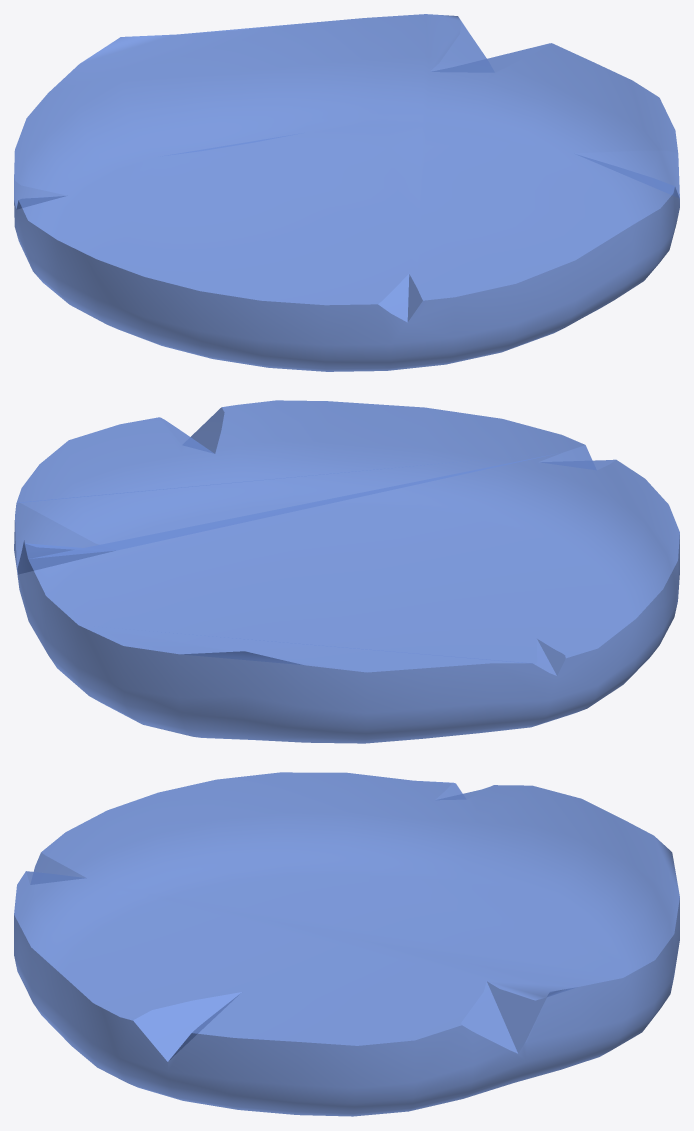
The model's file is Burger_skin_ICE DOWN.fbx.
The picture shows the model from 3 angles, top to bottom: view 1: azimuth 30°, elevation 25°; view 2: azimuth 150°, elevation 25°; view 3: azimuth 270°, elevation 25°; orthographic projection.
Parts seen in each view (by area): view 1: Burger Bread Down A; view 2: Burger Bread Down A; view 3: Burger Bread Down A.
Boxes of the visible parts, bbox=[...] form: Burger Bread Down A: bbox=[14, 14, 679, 371]; Burger Bread Down A: bbox=[14, 400, 679, 743]; Burger Bread Down A: bbox=[14, 772, 679, 1116].
Size of the model in its own units: 75.29 by 14.41 by 73.73.
